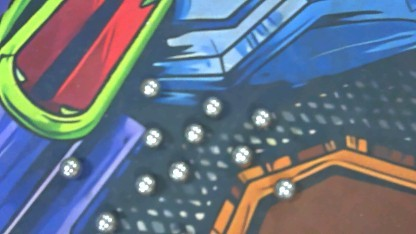ironball: (51, 151, 84, 178), (226, 143, 253, 169), (137, 76, 163, 100), (139, 123, 163, 149), (200, 92, 224, 118), (179, 120, 206, 143), (166, 159, 190, 184), (91, 212, 117, 234), (250, 106, 271, 130), (137, 170, 157, 194), (273, 177, 298, 196)
